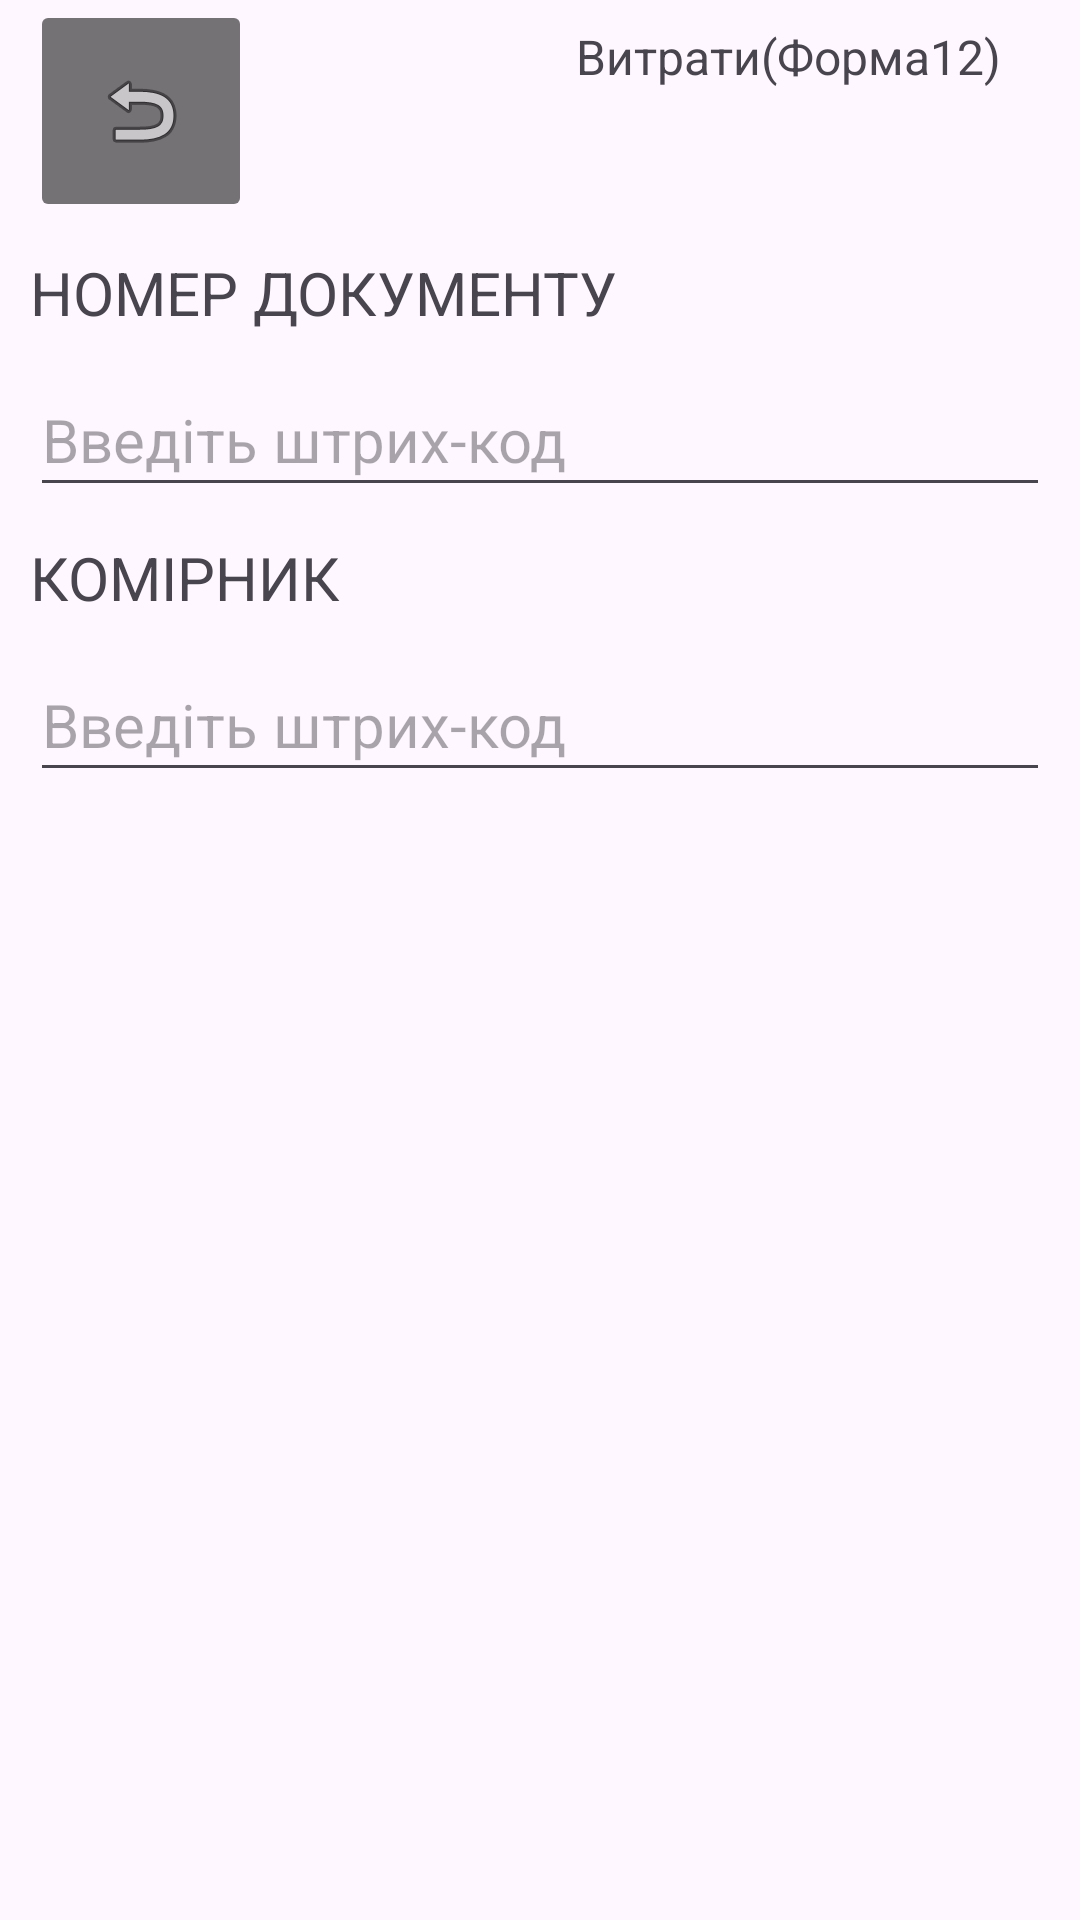

Icons on this 1080x1920 Android screen, each with its box as [x1=x1, y1=y1, x2=x2, y2=y2]:
На головну: [x1=42, y1=18, x2=240, y2=204]
